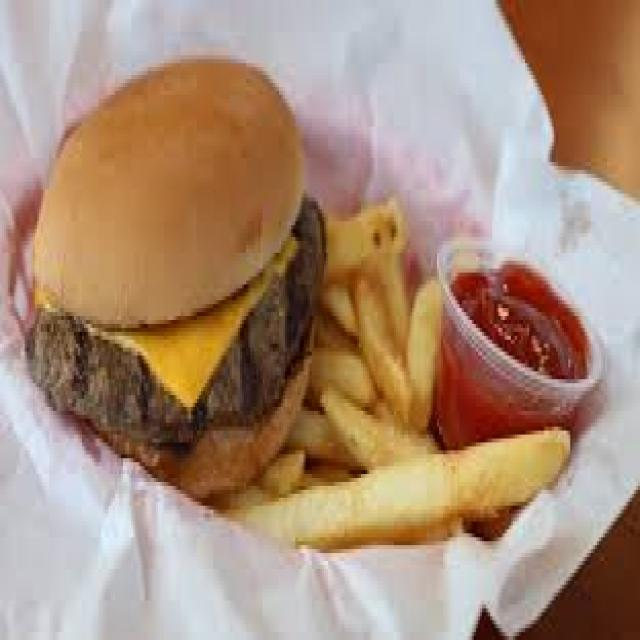Burger: (18, 47, 320, 494)
French Fries: (314, 174, 568, 569)
